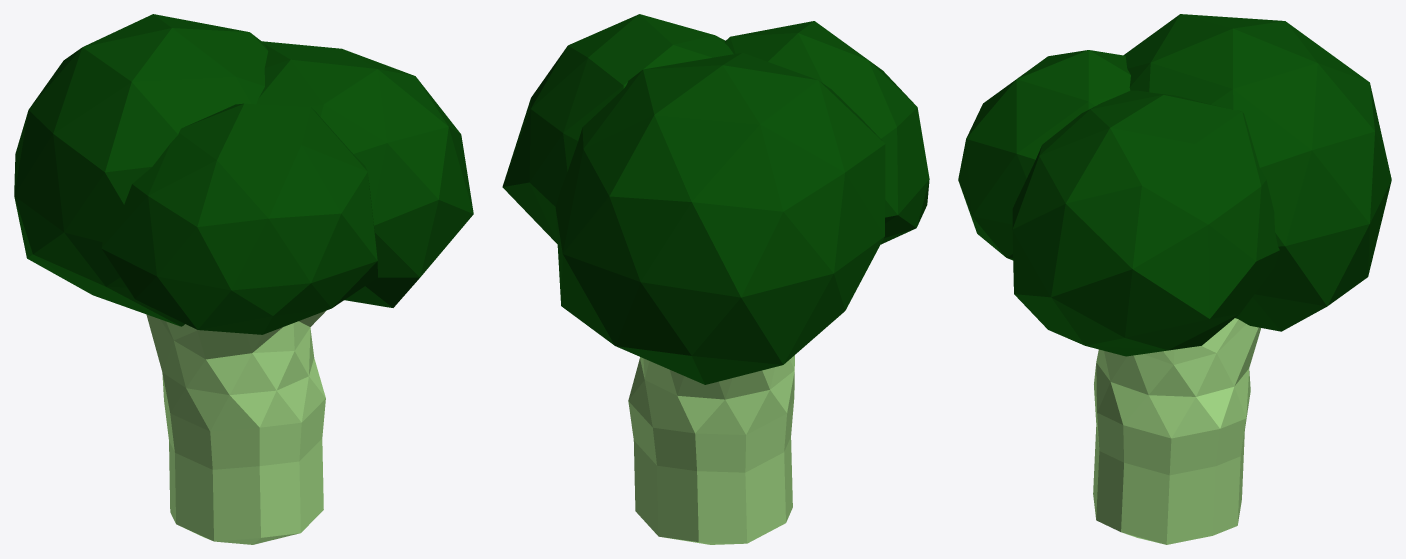
File: broccolli.fbx
The picture shows the model from 3 angles, left to right: view 1: azimuth 30°, elevation 25°; view 2: azimuth 150°, elevation 25°; view 3: azimuth 270°, elevation 25°; orthographic projection. The views are drawn at different scales.
Visible parts, largest first — view 1: Icosphere, Icosphere.001; view 2: Icosphere, Icosphere.001; view 3: Icosphere, Icosphere.001.
Boxes of the visible parts, left/top/right/bottom form: Icosphere: left=14, top=14, right=473, bottom=334; Icosphere.001: left=146, top=311, right=325, bottom=544; Icosphere: left=502, top=14, right=929, bottom=384; Icosphere.001: left=628, top=355, right=794, bottom=544; Icosphere: left=958, top=14, right=1391, bottom=356; Icosphere.001: left=1093, top=318, right=1260, bottom=544.
Bounding box in the file's own units: 667 × 849 × 683.
